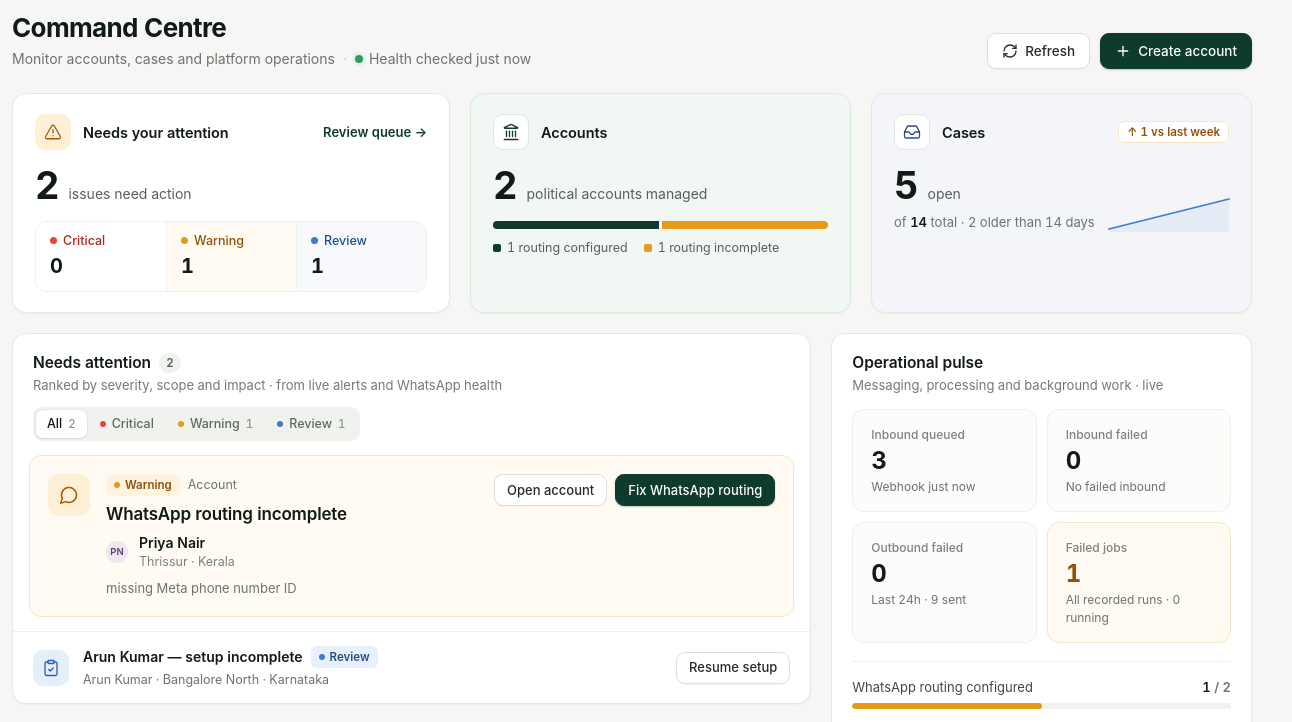
Test: Command Centre › filters the queue by severity
The image size is (1292, 722).
Expected: the text "WhatsApp routing incomplete" is shown, x1=106 y1=504 x2=347 y2=524
Click the tab "Review 1" at (311, 424), box x1=266 y1=410 x2=356 y2=438
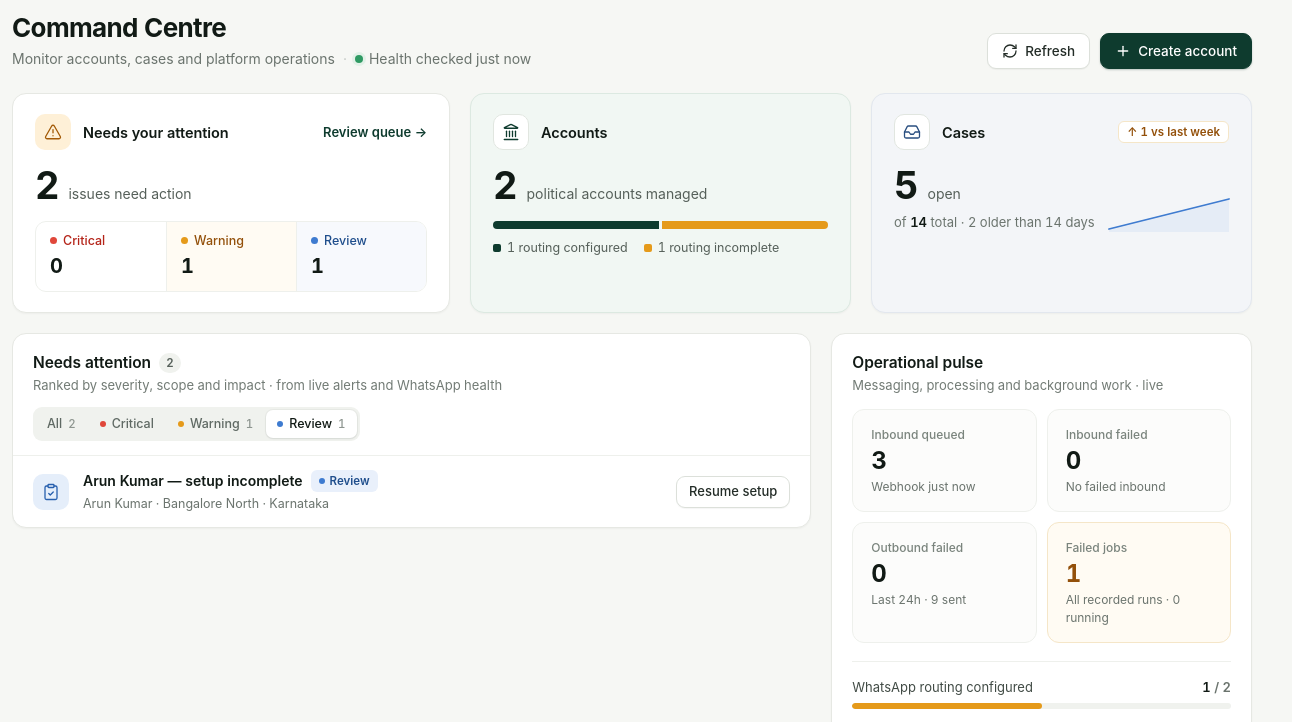
Expected: the text "Arun Kumar — setup incomplete" is shown, x1=83 y1=472 x2=303 y2=489
Result: the text "WhatsApp routing incomplete" is gone
